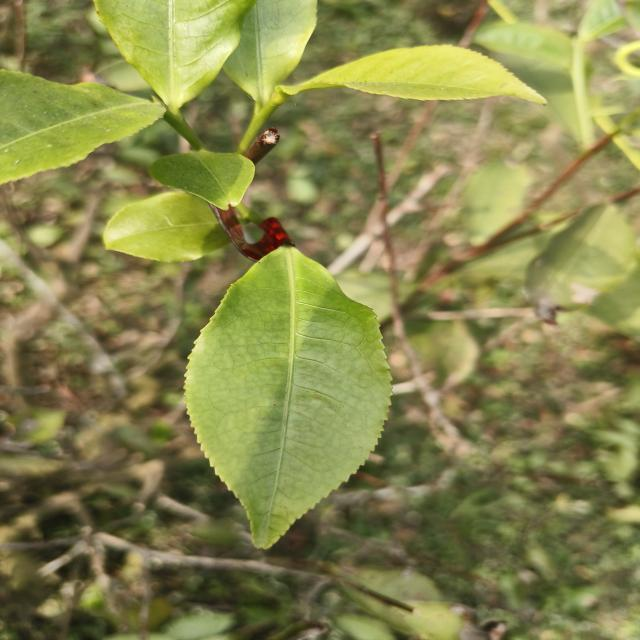Leaf: (185, 245, 391, 548), (0, 70, 165, 184), (94, 0, 256, 113), (276, 45, 546, 104), (525, 205, 636, 313), (224, 0, 316, 106), (103, 193, 230, 262), (150, 151, 254, 210), (463, 161, 532, 246), (473, 21, 572, 70)
